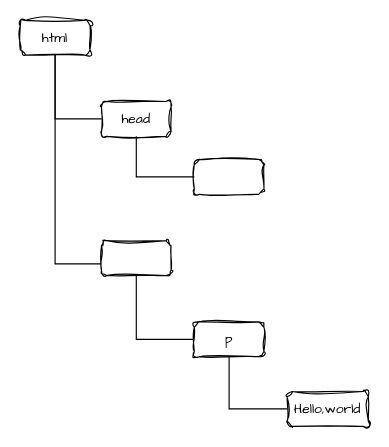
The diagram is 389 pixels wide and 447 high, and some of its shapes have lost their labels. The shapes that lost their labels are listed below. From the top down, each one's centre as x and y in pixels, then its label:
the point at 228,176: meta
the point at 135,258: body
